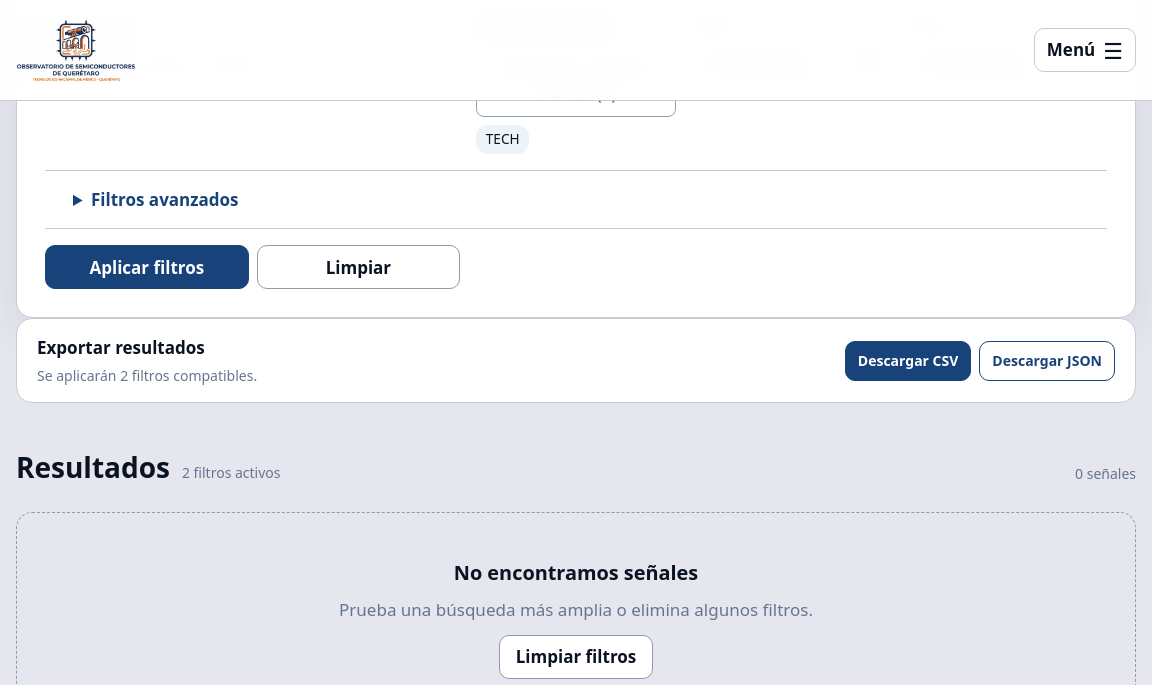
acciones públicas de exportación › descarga CSV con JWT y sólo filtros compatibles
This screenshot has width=1152, height=685.
(page scrolled)
Click the button "Descargar CSV" at (908, 361), box [845,341,971,381]
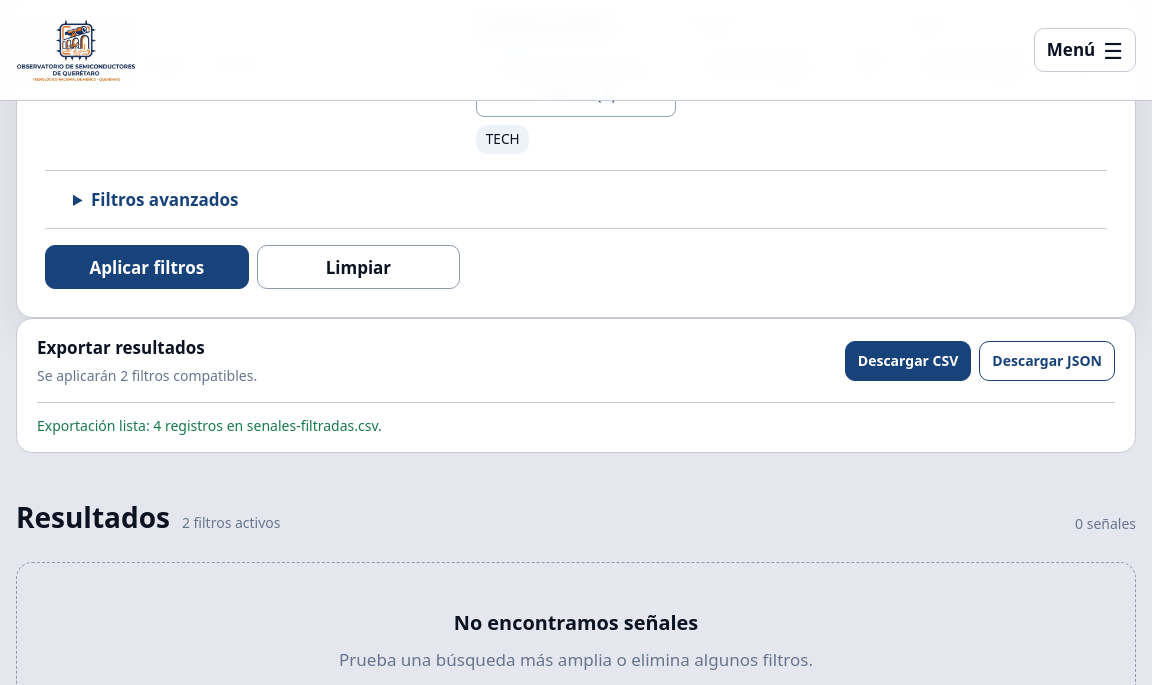
Check: the text "Exportación lista: 4 registros en senales-filtradas.csv." is shown, box [37,402,1115,436]
